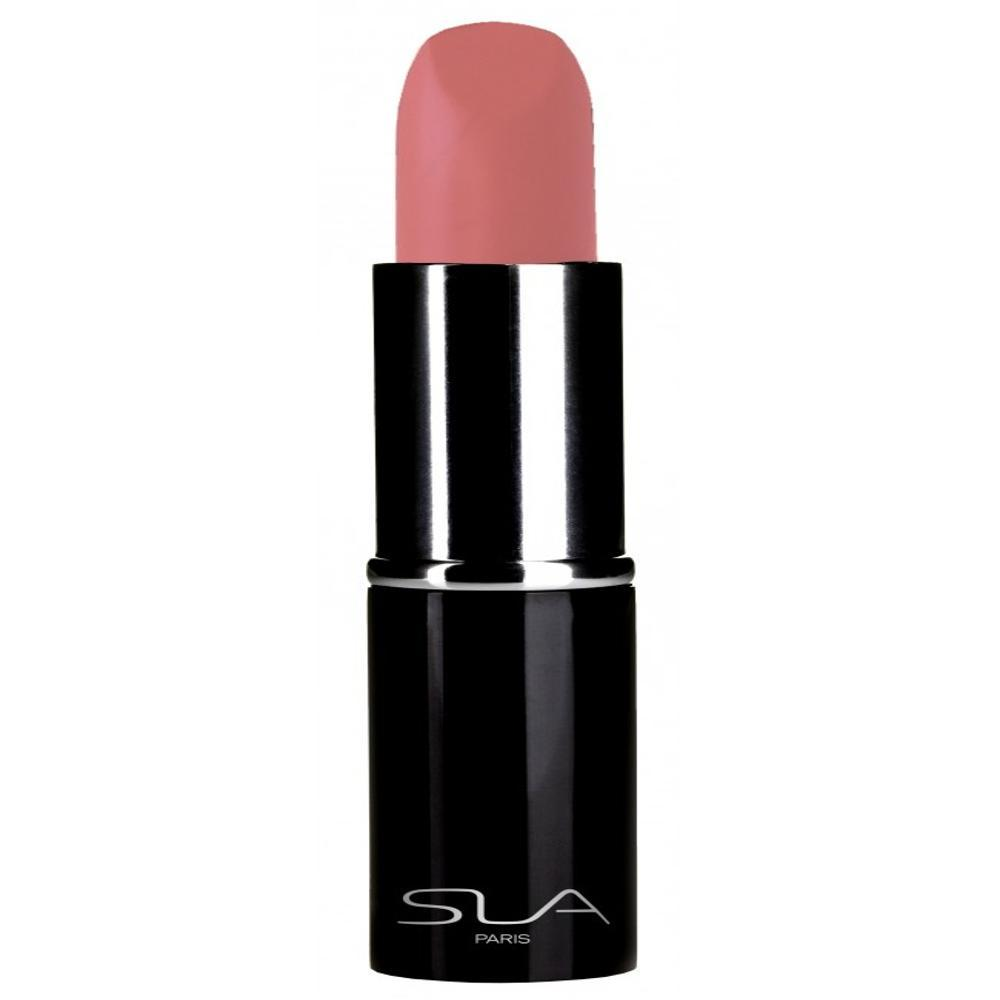lipstick: (341, 8, 674, 1000)
